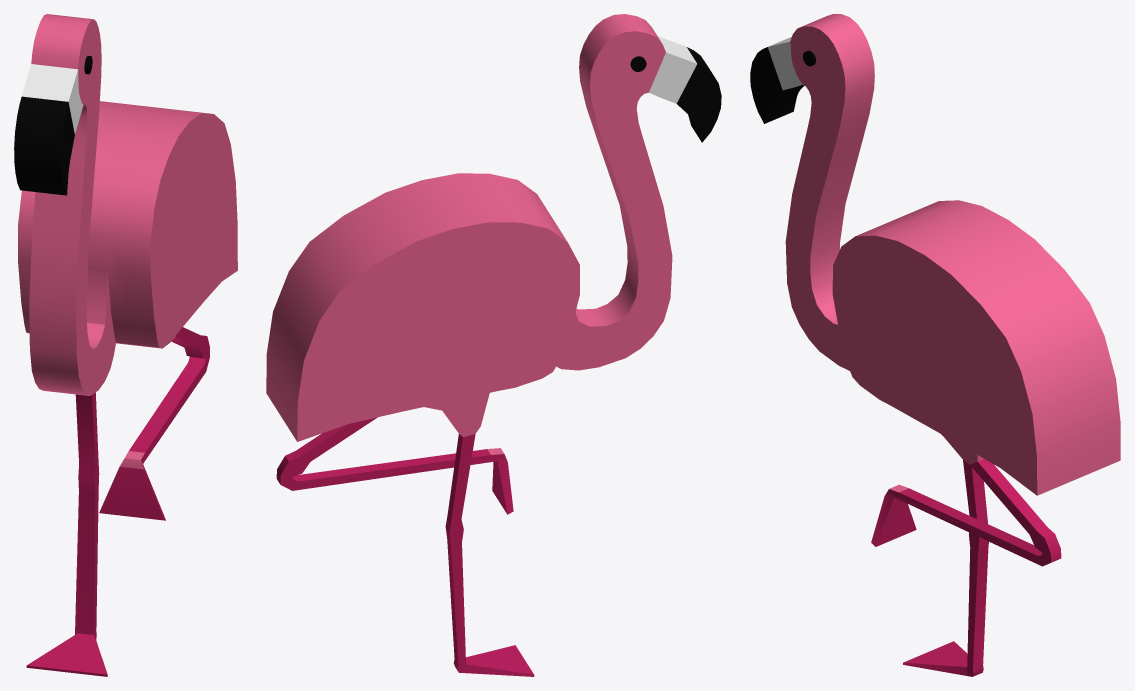
File: flamingo.gltf
3 renders of one model, left to right at view 1: azimuth 30°, elevation 25°; view 2: azimuth 150°, elevation 25°; view 3: azimuth 270°, elevation 25°, orthographic. The views are drawn at different scales.
Visible parts, largest first — view 1: Plane.160; view 2: Plane.160; view 3: Plane.160.
Part boxes in pixels (left/top/right/bottom): Plane.160: left=14, top=14, right=237, bottom=676; Plane.160: left=266, top=14, right=721, bottom=676; Plane.160: left=750, top=14, right=1120, bottom=676.
Bounding box in the file's own units: 1.23 × 2.23 × 1.23.
Materials: 1 (1 with a texture image).
